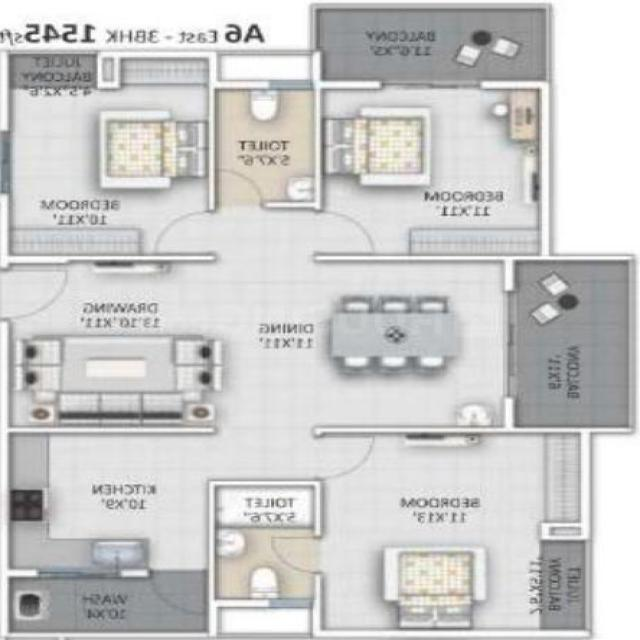Balcony-Sitout: (509, 255, 634, 433), (314, 5, 550, 83), (540, 540, 591, 633), (2, 50, 100, 87)
Bedroom: (0, 52, 217, 262), (314, 81, 550, 261)
Bedroom with Toilet: (211, 428, 588, 639)
Dining: (315, 291, 476, 378)
Enterance-Foyer: (0, 262, 74, 323)
Kitchen: (1, 429, 212, 573)
Living: (2, 257, 319, 429)
Toilet: (208, 81, 321, 209), (212, 481, 319, 603)
Utility: (1, 572, 212, 637)
